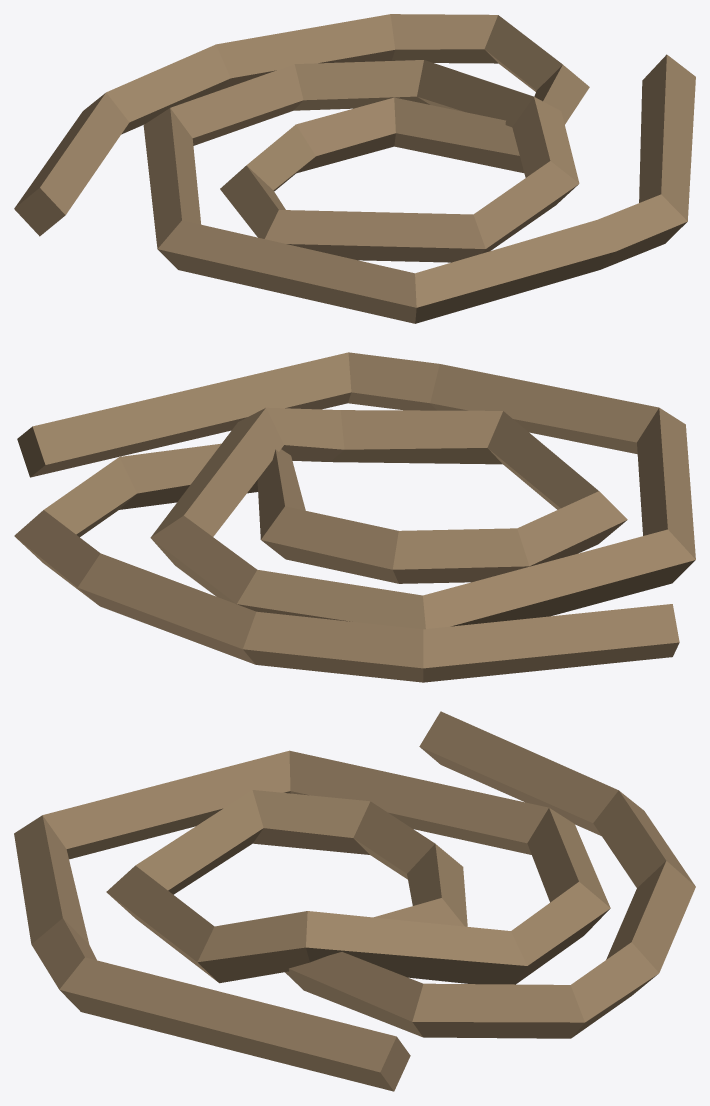
File: SM_Rope.gltf
3 views of the same model, one above another, from view 1: azimuth 30°, elevation 25°; view 2: azimuth 150°, elevation 25°; view 3: azimuth 270°, elevation 25° (orthographic). The views are drawn at different scales.
Parts seen in each view (by area): view 1: SM_Rope; view 2: SM_Rope; view 3: SM_Rope.
Boxes of the visible parts, x1,y1,x2,y2 form: SM_Rope: (14,14,695,323); SM_Rope: (14,352,695,682); SM_Rope: (14,711,695,1091).
Bounding box in the file's own units: 0.6356 × 0.0739 × 0.5305.
Materials: 1 (1 with a texture image).
